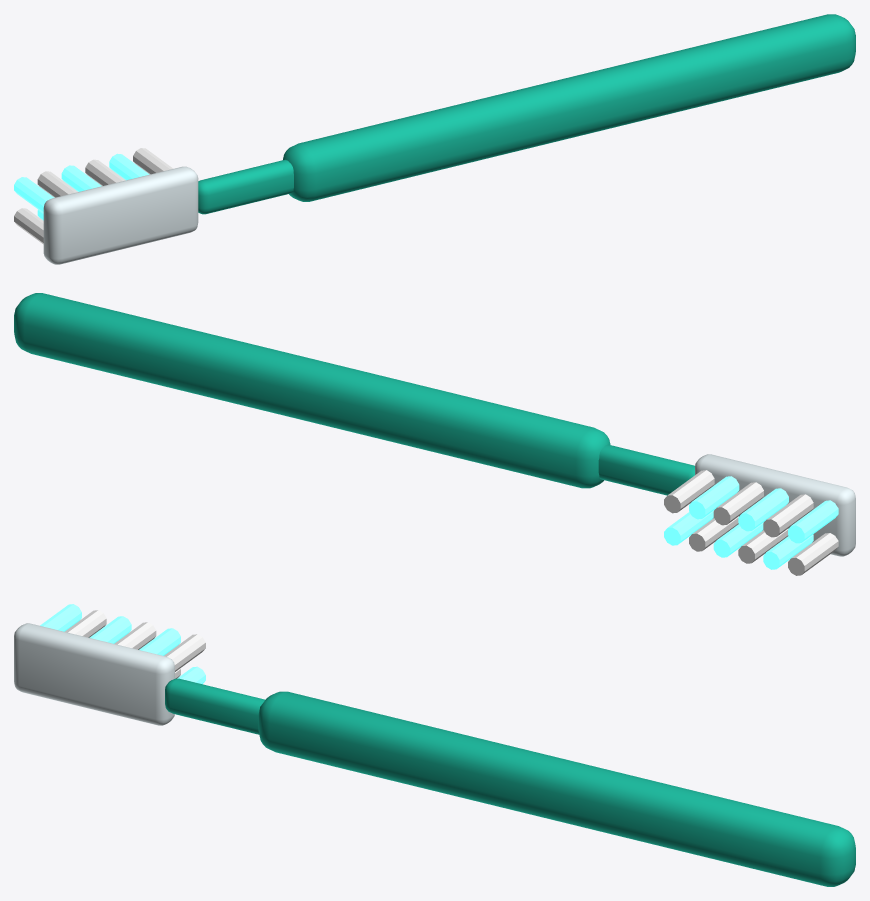
File: brush.glb
The picture shows the model from 3 angles, top to bottom: view 1: azimuth 30°, elevation 25°; view 2: azimuth 150°, elevation 25°; view 3: azimuth 330°, elevation 25°; orthographic projection. The views are drawn at different scales.
Visible parts, largest first — view 1: Cube.002, Cube, Cube.001, Cylinder.001, Cylinder, Cylinder.003, Cylinder.007, Cylinder.005, Cylinder.009, Cylinder.011; view 2: Cube.002, Cube, Cube.001, Cylinder.001, Cylinder, Cylinder.011, Cylinder.003, Cylinder.009, Cylinder.005, Cylinder.007, Cylinder.006, Cylinder.002 (+3 smaller); view 3: Cube.002, Cube, Cube.001, Cylinder.011, Cylinder.007, Cylinder.005, Cylinder.003, Cylinder.009, Cylinder.001.
Part boxes in pixels (box(x1,y1,x2,y2)): Cube.002: box(283, 14, 855, 201); Cube: box(43, 166, 198, 264); Cube.001: box(198, 159, 293, 214); Cylinder.001: box(14, 177, 54, 212); Cylinder: box(14, 208, 43, 244); Cylinder.003: box(37, 171, 77, 197); Cylinder.007: box(85, 159, 125, 185); Cylinder.005: box(61, 165, 101, 191); Cylinder.009: box(109, 153, 149, 180); Cylinder.011: box(133, 148, 173, 174); Cube.002: box(14, 293, 610, 488); Cube: box(695, 454, 855, 556); Cube.001: box(598, 444, 694, 495); Cylinder.001: box(788, 500, 838, 543); Cylinder: box(788, 533, 838, 575); Cylinder.011: box(664, 470, 714, 513); Cylinder.003: box(763, 494, 813, 537); Cylinder.009: box(689, 476, 739, 519); Cylinder.005: box(738, 488, 788, 531); Cylinder.007: box(713, 482, 763, 525); Cylinder.006: box(713, 522, 763, 557); Cylinder.002: box(763, 534, 813, 569); Cube.002: box(258, 691, 855, 886); Cube: box(14, 623, 174, 725); Cube.001: box(165, 678, 265, 734); Cylinder.011: box(164, 634, 205, 671); Cylinder.007: box(114, 622, 156, 649); Cylinder.005: box(89, 616, 131, 643); Cylinder.003: box(65, 610, 106, 637); Cylinder.009: box(139, 628, 180, 655); Cylinder.001: box(40, 604, 81, 631).
Size of the model in its own units: 2.7 by 0.2 by 0.31.
